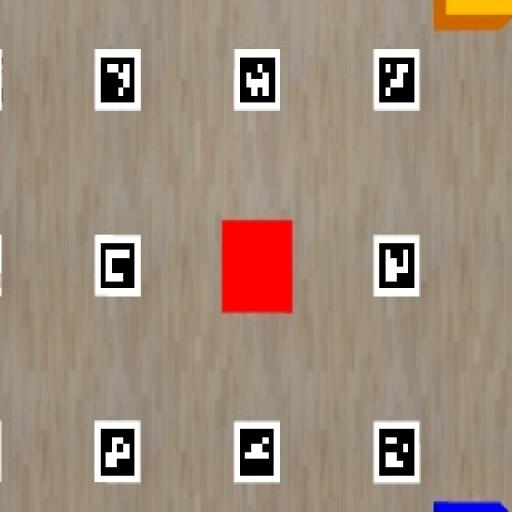car: (432, 500, 508, 511)
fire: (221, 220, 292, 313), (434, 0, 511, 29)
